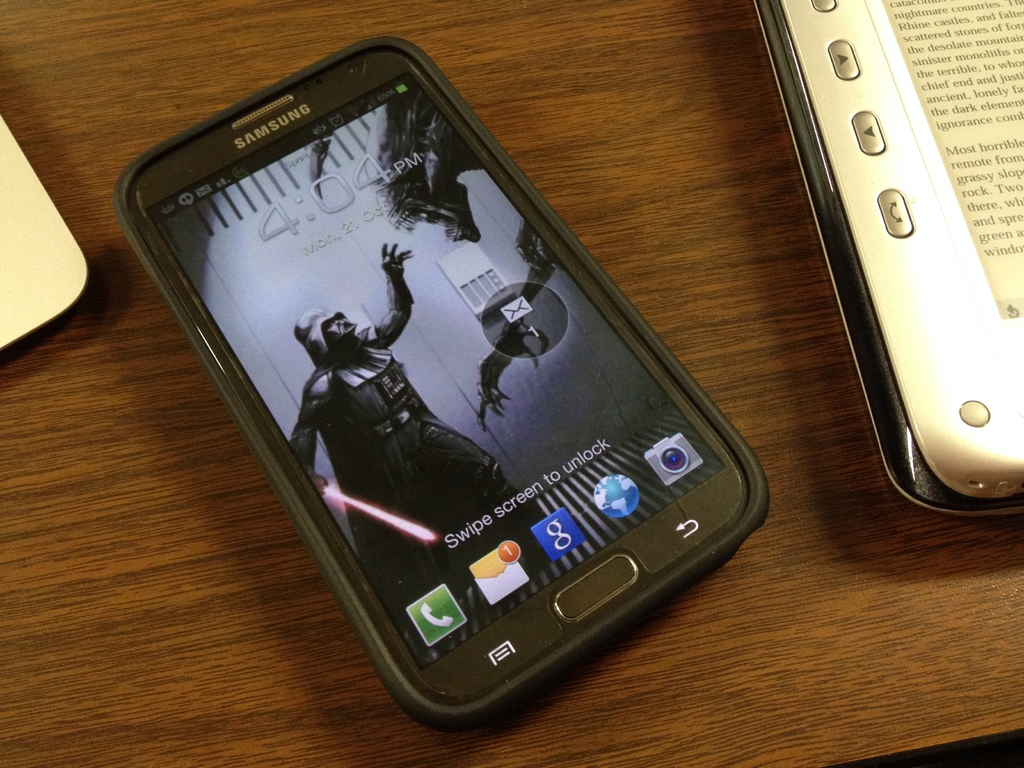mobile phone: (87, 26, 790, 743)
